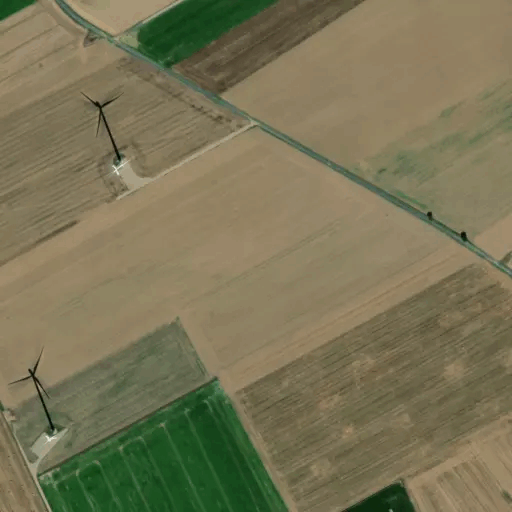wt: (75, 81, 139, 189), (9, 332, 68, 446)
